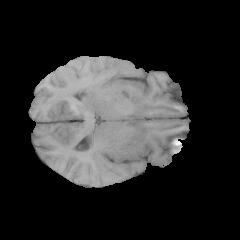glioma: (76, 80, 141, 125)
